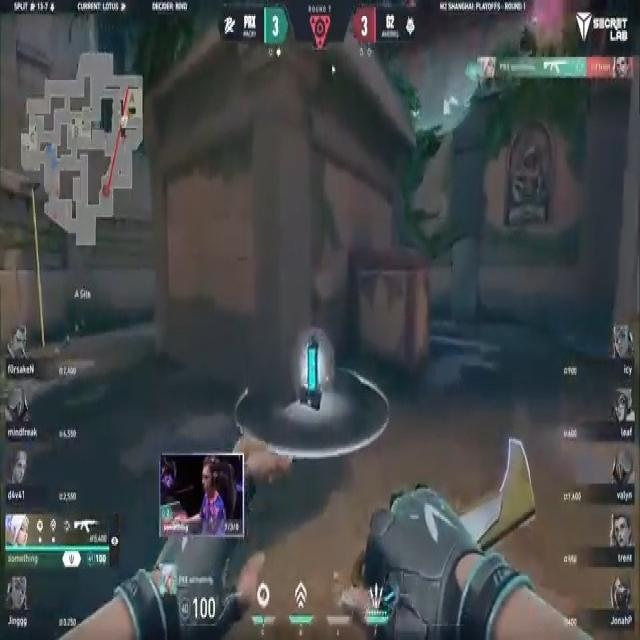spike-planted: (296, 331, 329, 421)
